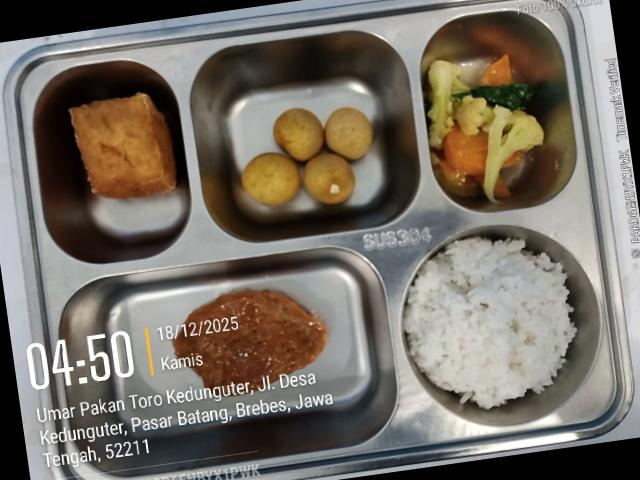ayam: (174, 290, 327, 393)
buah: (243, 108, 372, 206)
nasi: (404, 238, 577, 408)
sayur: (427, 56, 544, 203)
tahu: (69, 93, 176, 198)
